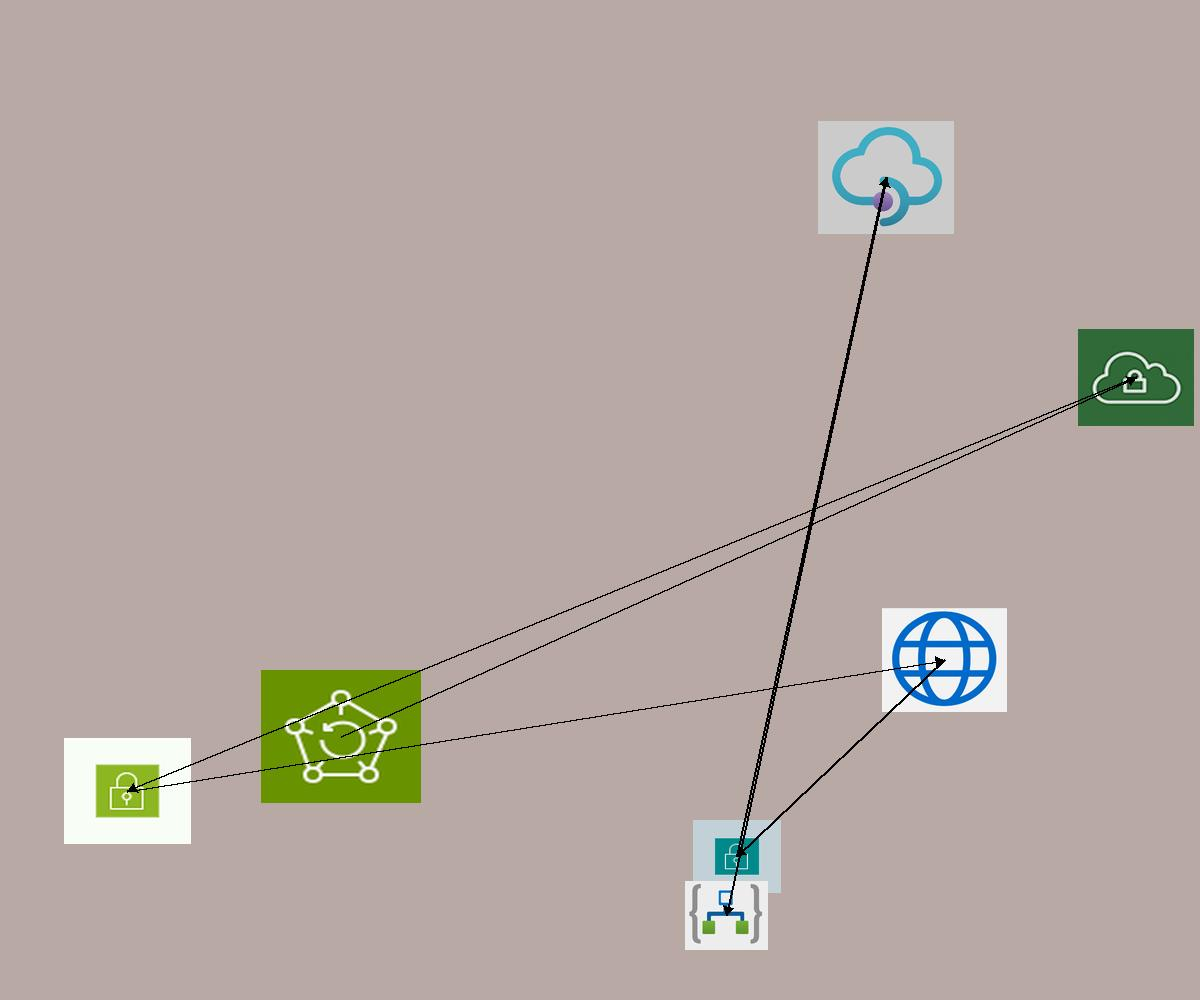AWS-Backup: (261, 670, 421, 803)
AWS-Private-subnet: (693, 820, 781, 893)
AWS-Private_vpc: (1078, 329, 1194, 426)
AWS-Public-subnet: (64, 738, 191, 844)
Azure_api_gateway: (818, 121, 954, 234)
Azure_http: (882, 608, 1007, 712)
Azure_integration-204-Logic-Apps: (685, 881, 768, 950)
